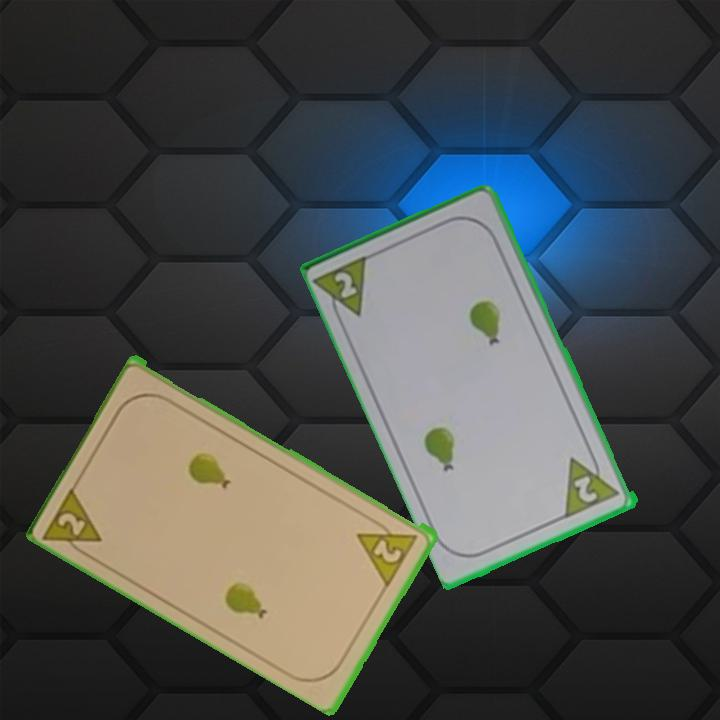2p: (40, 481, 106, 562), (354, 514, 422, 588), (570, 472, 601, 506), (331, 268, 361, 302)
